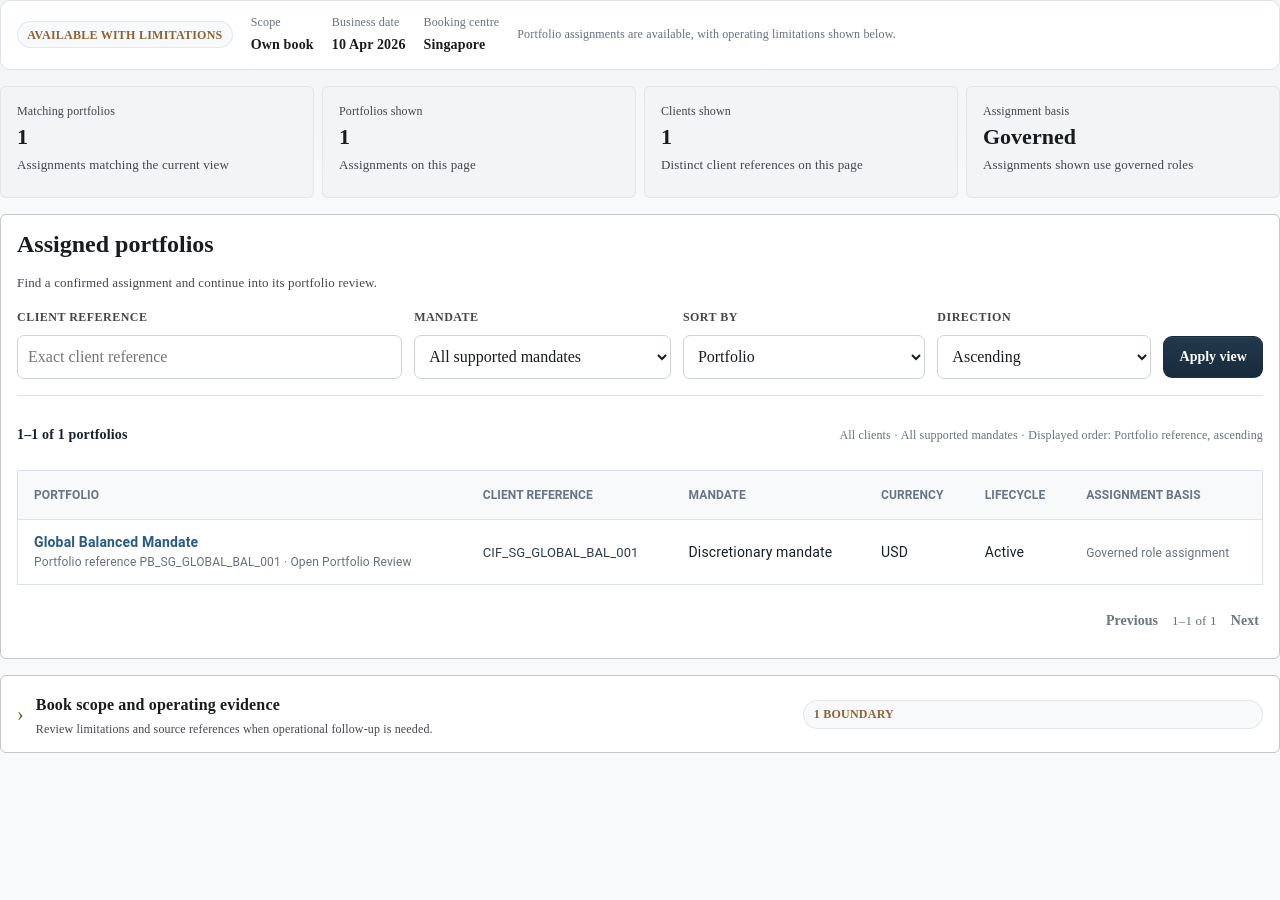
Test case: AdvisorBookWorkspace › keeps repeated source limitations and raw references in one collapsed disclosure
Expected: the text "Available with limitations" is shown, top-left (17, 21), bottom-right (233, 48)
Expected: the text "3 related limitations consolidated" is not shown
Click the text "Book scope and operating evidence".
click(158, 704)  # box top-left (36, 696), bottom-right (280, 712)
(page scrolled)
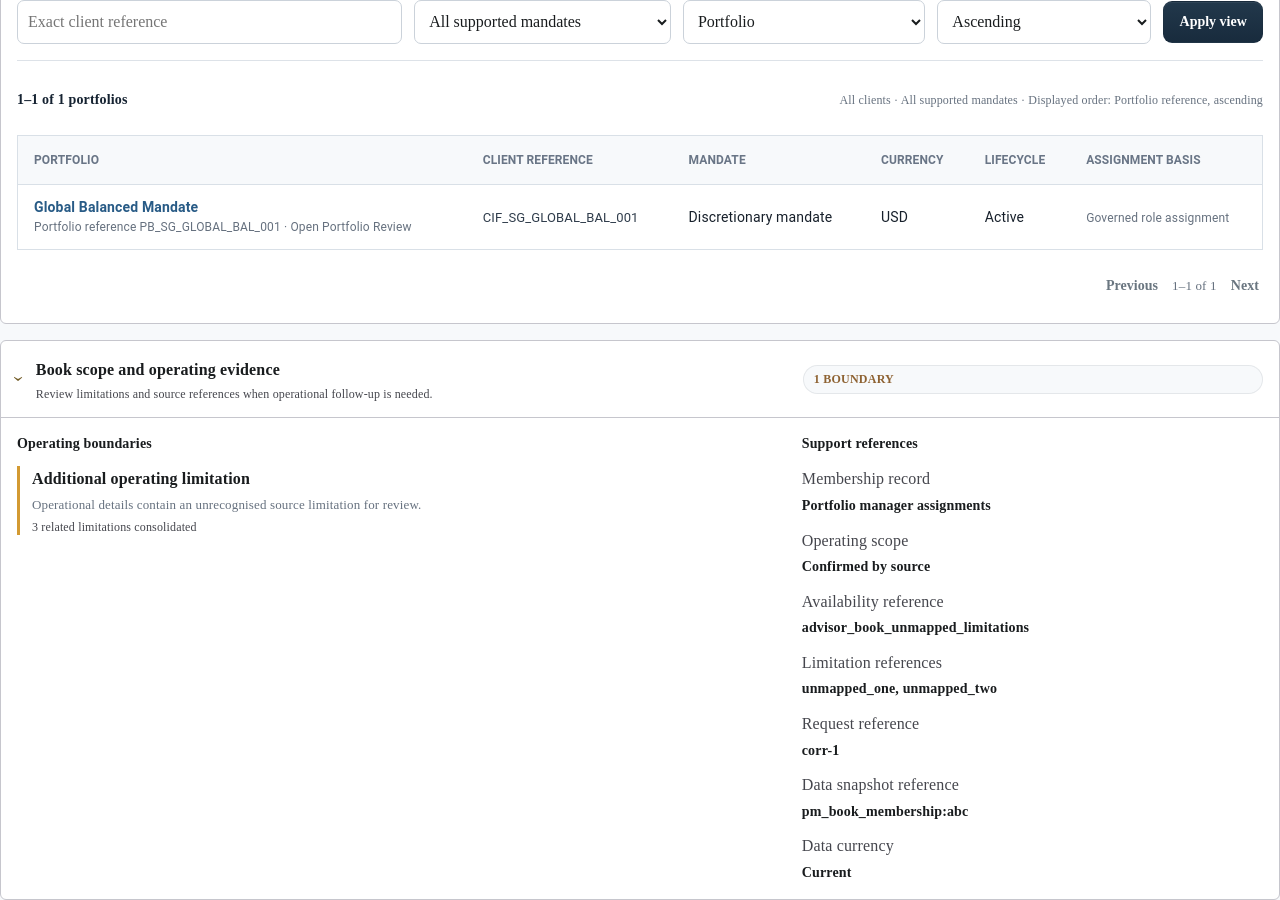
Result: the text "3 related limitations consolidated" is shown at top-left (32, 520), bottom-right (197, 534)
Result: the text "unmapped_one, unmapped_two" is shown at top-left (802, 680), bottom-right (997, 699)
